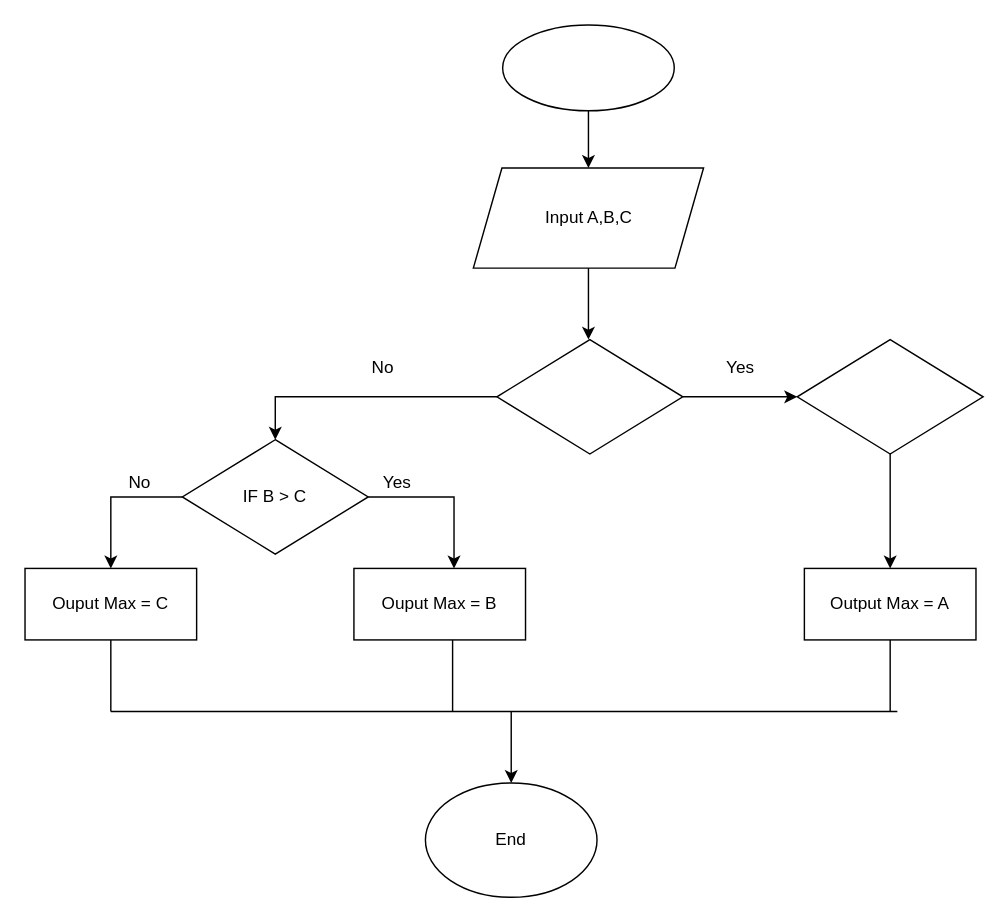
This 1008x922 diagram has some shape labels left out. Here are the shapes that lost their labels. From the top down, the centre of each, then its label:
point (587, 67): Begin
point (589, 396): IF A>B
point (889, 396): IF A>C
